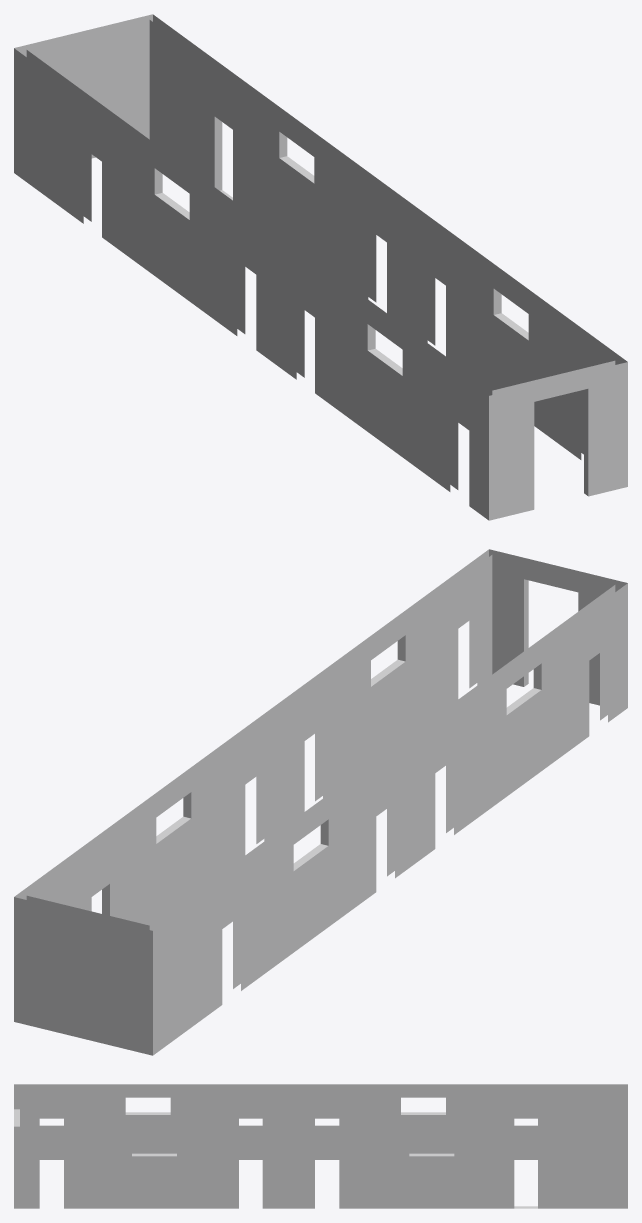
File: LouDao-08.FBX
3 renders of one model, top to bottom at view 1: azimuth 30°, elevation 25°; view 2: azimuth 150°, elevation 25°; view 3: azimuth 270°, elevation 25°, orthographic. The views are drawn at different scales.
Parts seen in each view (by area): view 1: LouDao-08; view 2: LouDao-08; view 3: LouDao-08.
Part boxes in pixels (x1,y1,x2,y2): LouDao-08: (14,14,627,520); LouDao-08: (14,549,627,1055); LouDao-08: (14,1084,627,1208).
Bounding box in the file's own units: 3840 × 3300 × 22752.
